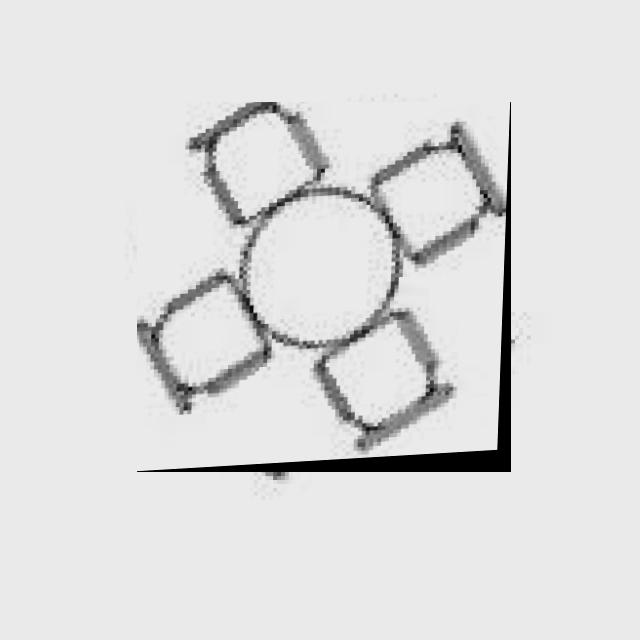table: (137, 102, 511, 472)
